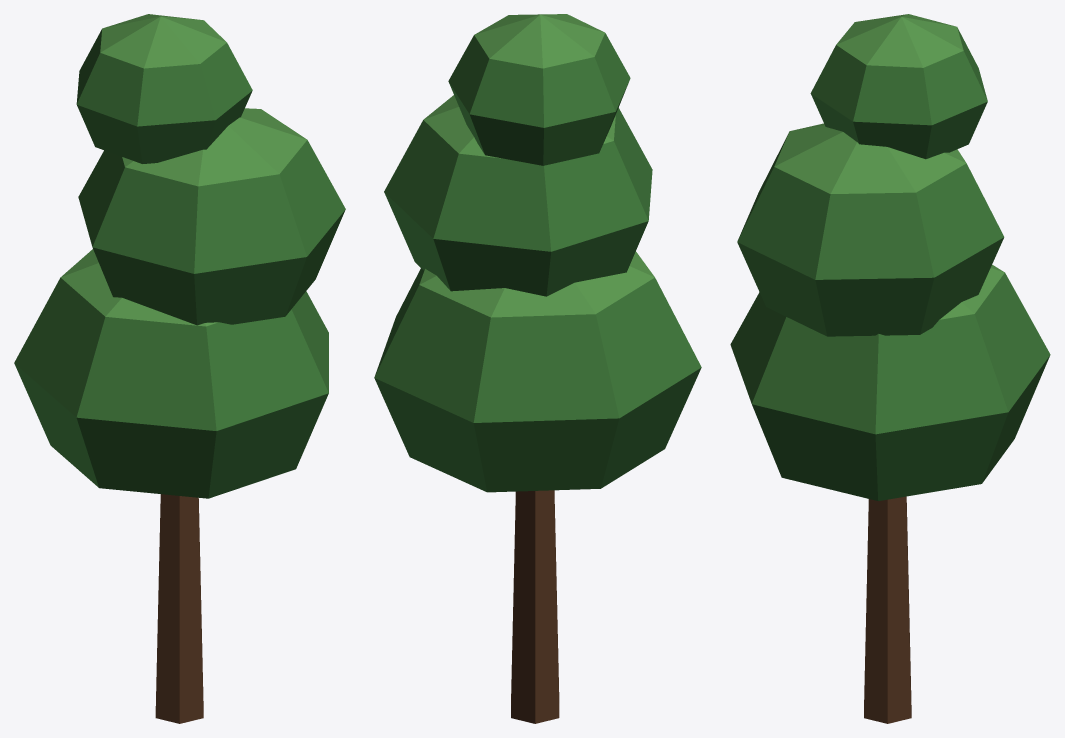
File: tree_default_dark.glb
3 views of the same model, side by side, from view 1: azimuth 30°, elevation 25°; view 2: azimuth 150°, elevation 25°; view 3: azimuth 270°, elevation 25° (orthographic). The views are drawn at different scales.
Visible parts, largest first — view 1: tree_default_dark; view 2: tree_default_dark; view 3: tree_default_dark.
Part boxes in pixels (left/top/right/bottom): tree_default_dark: left=14, top=14, right=345, bottom=723; tree_default_dark: left=374, top=14, right=701, bottom=723; tree_default_dark: left=730, top=14, right=1050, bottom=723.
Bounding box in the file's own units: 0.6941 × 1.66 × 0.7.
Materials: 1 (1 with a texture image).
